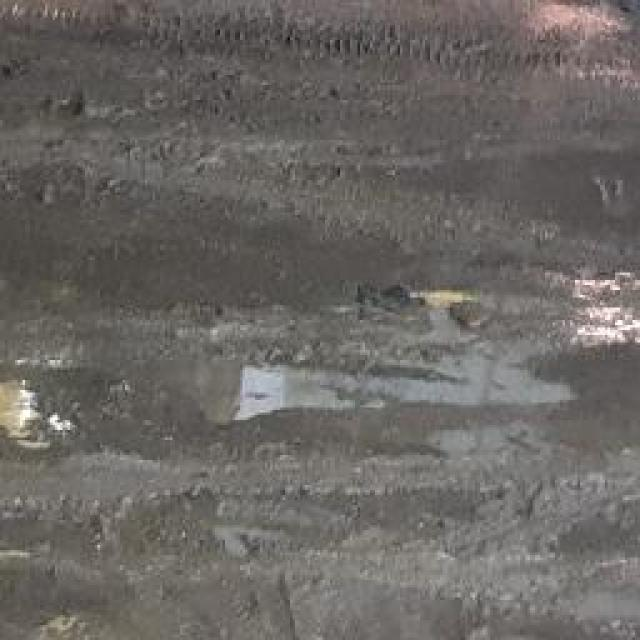stagnation: (203, 298, 580, 422)
